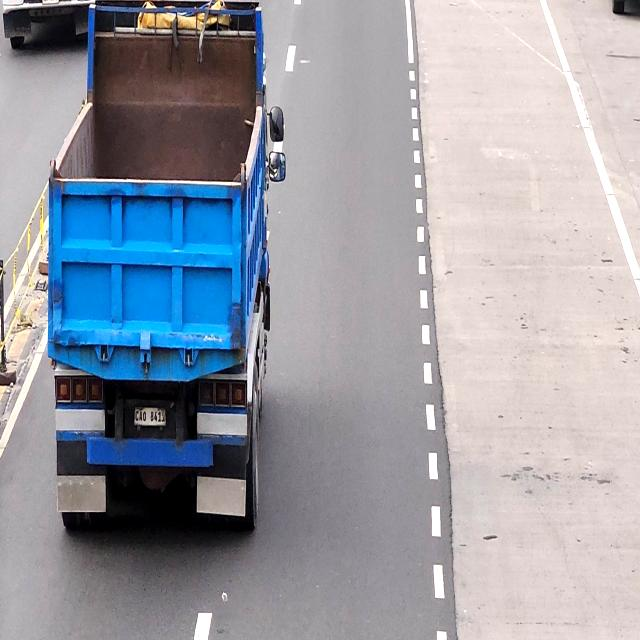License-Plate: (133, 406, 166, 431)
Truck: (55, 0, 268, 531)
